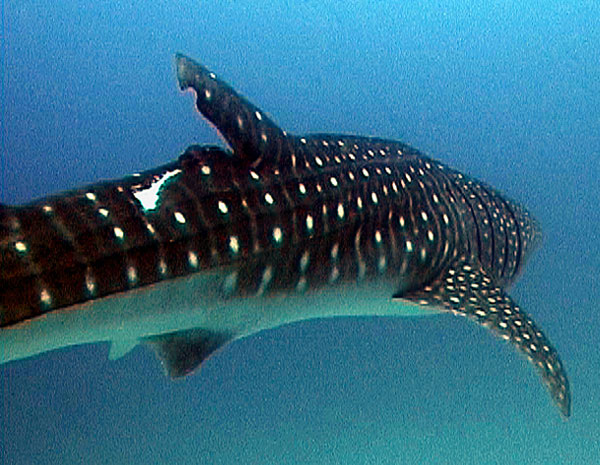Rhincodon_typusw: (1, 49, 583, 437)
